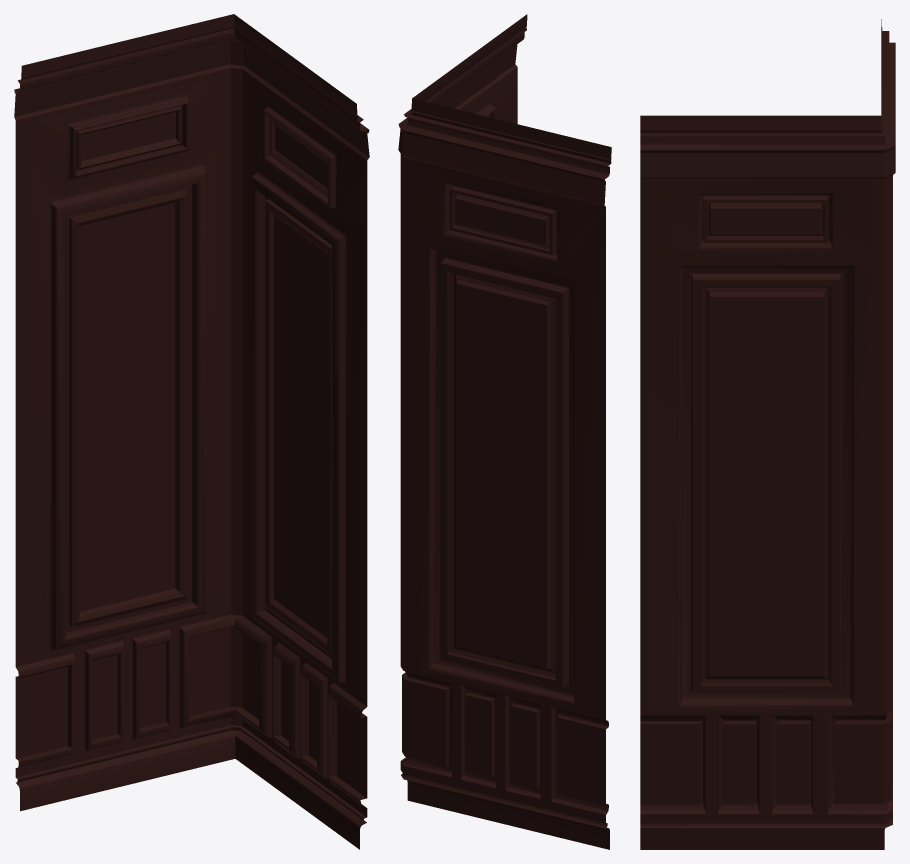
The model's file is wall_small_corner.fbx.
The picture shows the model from 3 angles, left to right: view 1: azimuth 30°, elevation 25°; view 2: azimuth 150°, elevation 25°; view 3: azimuth 270°, elevation 25°; orthographic projection. The views are drawn at different scales.
Parts seen in each view (by area): view 1: small_corner.001; view 2: small_corner.001; view 3: small_corner.001.
Part boxes in pixels (bbox=[...]): small_corner.001: bbox=[14, 14, 369, 849]; small_corner.001: bbox=[398, 14, 611, 849]; small_corner.001: bbox=[640, 19, 895, 849].
Size of the model in its own units: 101 by 320 by 101.
